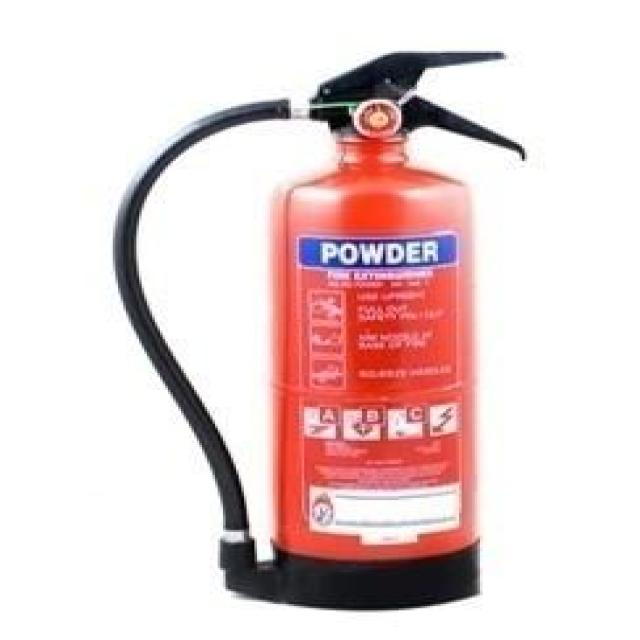fire_extinguisher: (101, 44, 531, 616)
